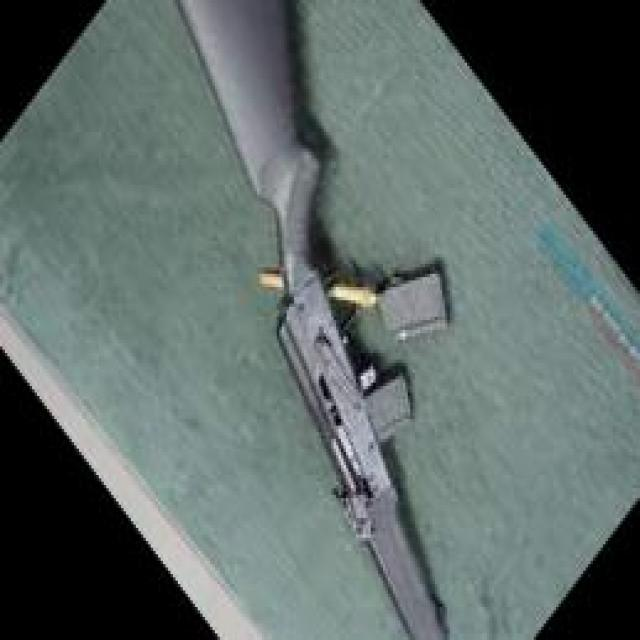weapon: (170, 0, 452, 640)
